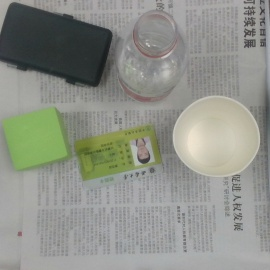bottle: (117, 10, 186, 103)
card: (75, 125, 164, 188)
cup: (172, 96, 261, 178)
